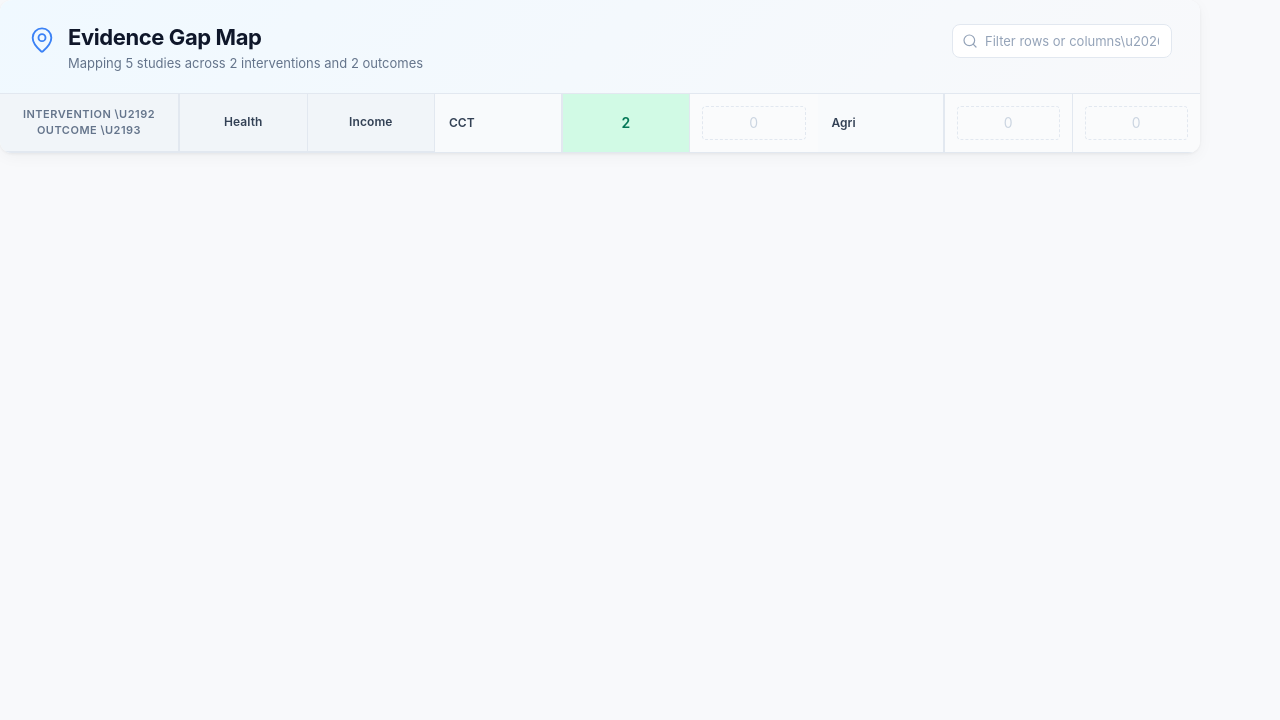
Scenario: EvidenceGapMap › opens modal on cell click
This screenshot has width=1280, height=720.
Click the button "2". click: (626, 123)
box: x1=562 y1=94 x2=690 y2=153
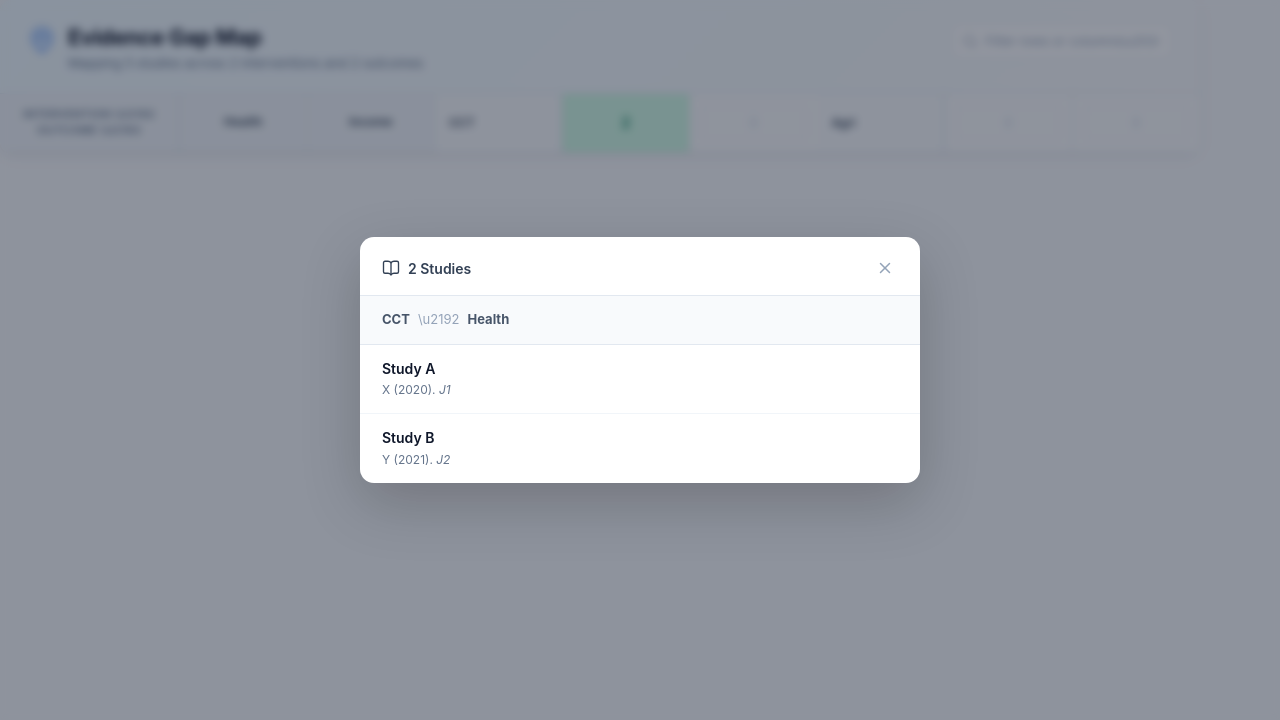
Expected: the text "2 Studies" is shown, x1=408 y1=258 x2=471 y2=279
Expected: the text "Study A" is shown, x1=382 y1=360 x2=435 y2=377
Expected: the text "Study B" is shown, x1=382 y1=429 x2=434 y2=446
